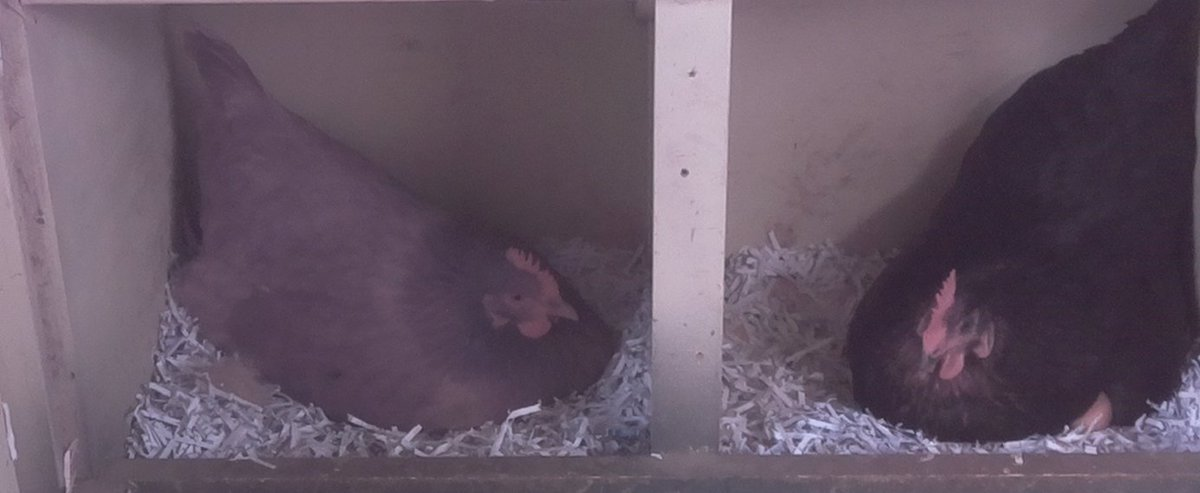egg: (1061, 387, 1115, 437)
hen: (185, 61, 620, 431), (840, 20, 1199, 444)
